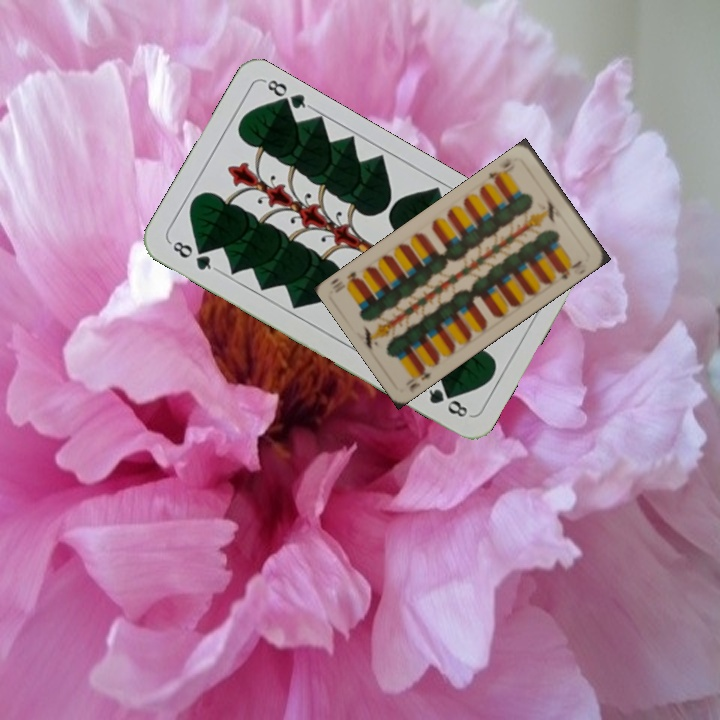E10: (484, 153, 521, 187), (405, 362, 434, 394)
G8: (166, 237, 220, 273)
